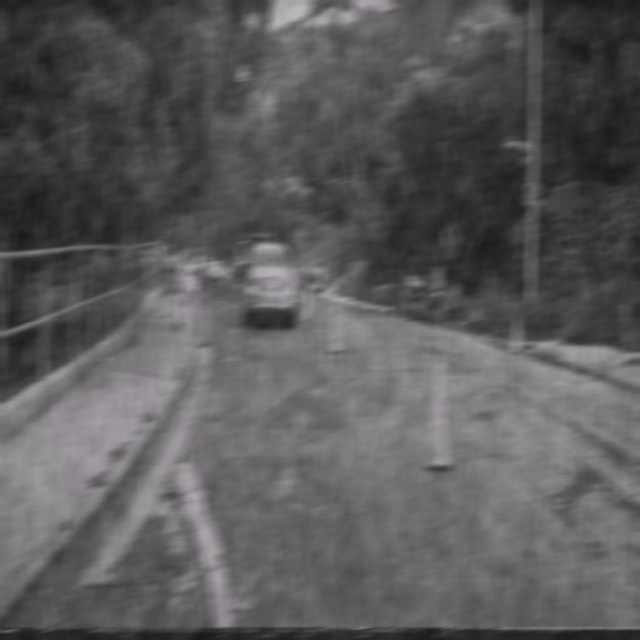curveLeft: (442, 217, 462, 260)
